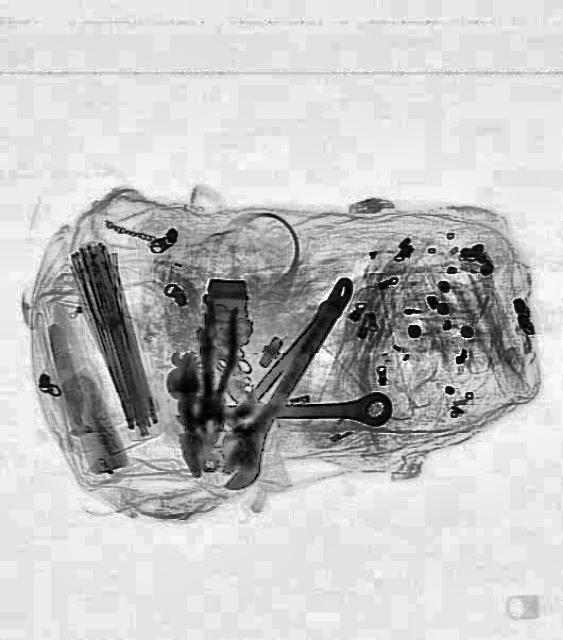Pliers: (188, 303, 242, 452)
Wrench: (199, 262, 371, 503)
